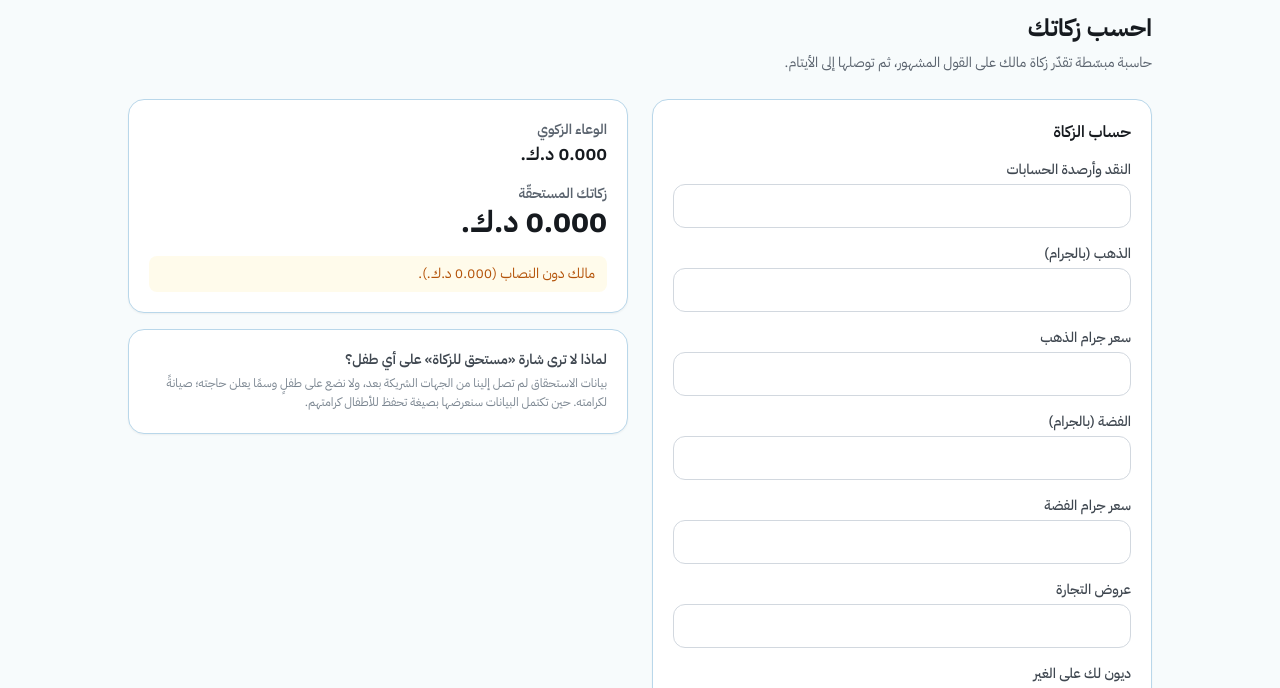
Test: DonorZakatPage — directing the zakat › keeps the pay button inert until the acknowledgement is checked
The width and height of the screenshot is (1280, 688).
Type "10000" into the field labelled "النقد وأرصدة الحسابات". click: (902, 206)
box: x1=673 y1=184 x2=1131 y2=228
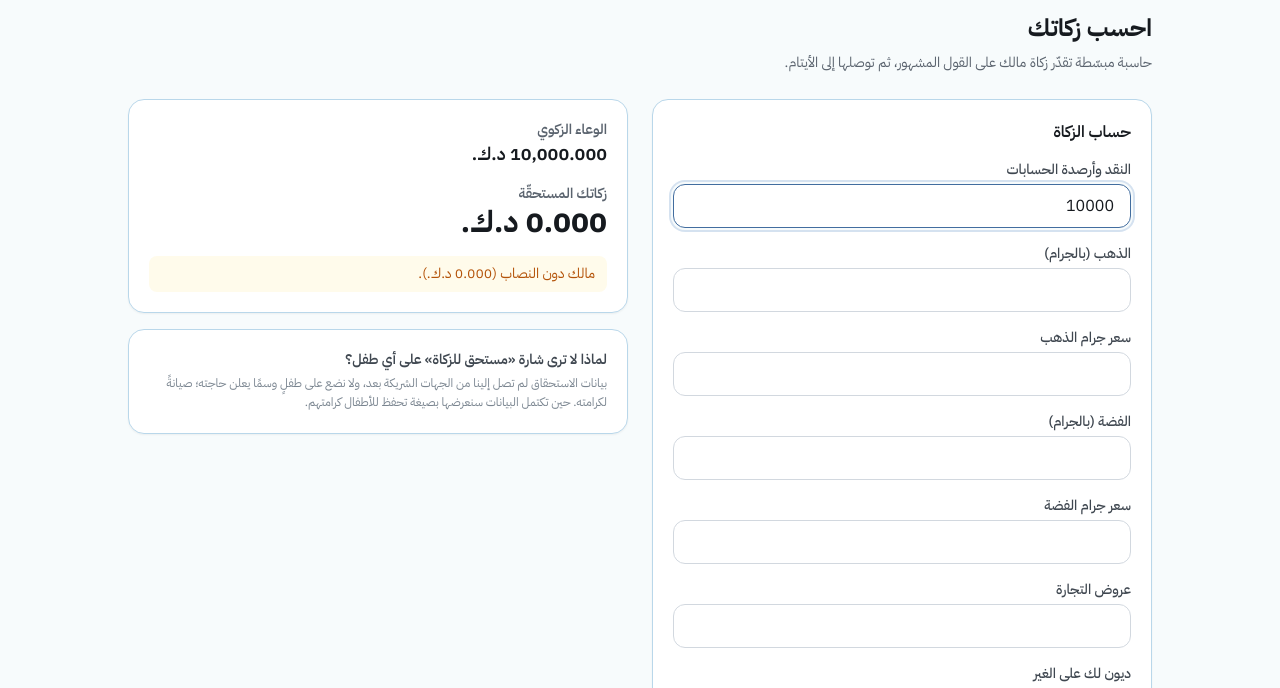
Type "80" into the field labelled "سعر جرام الذهب". click: (902, 374)
box: x1=673 y1=352 x2=1131 y2=396
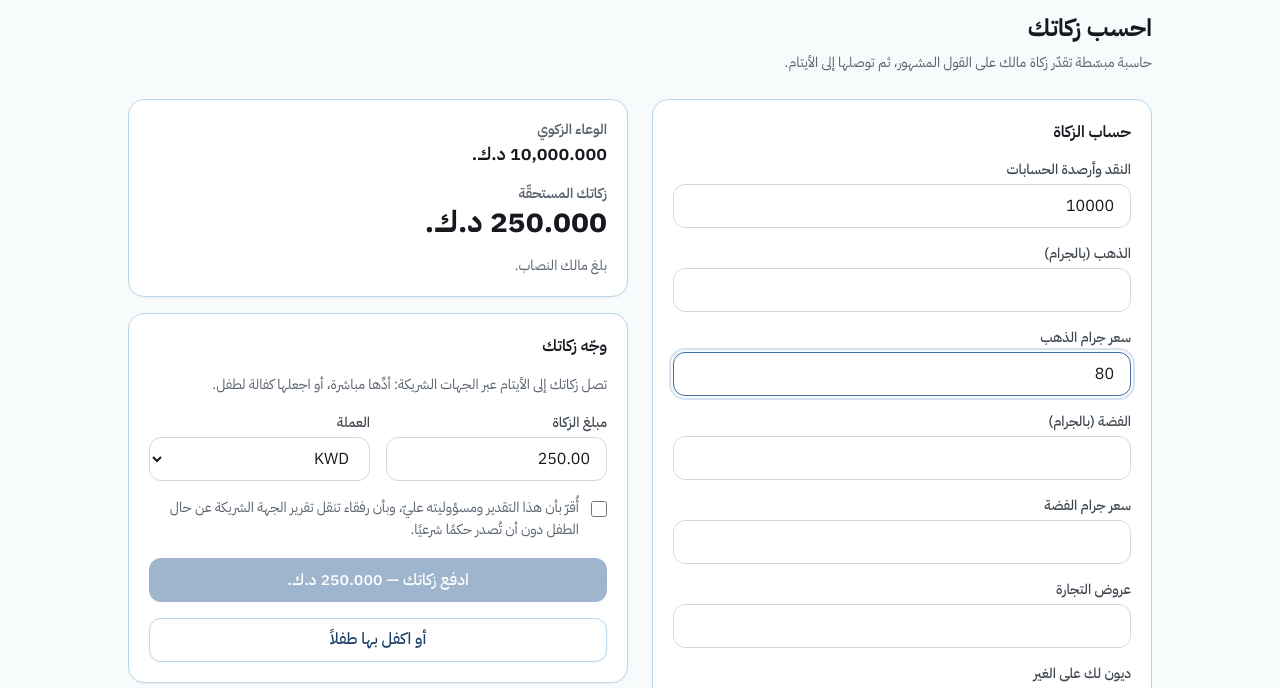
Result: the button "ادفع زكاتك — 250.000 د.ك." is disabled
Click the button "ادفع زكاتك — 250.000 د.ك.". click: (378, 580)
box: x1=149 y1=558 x2=607 y2=602
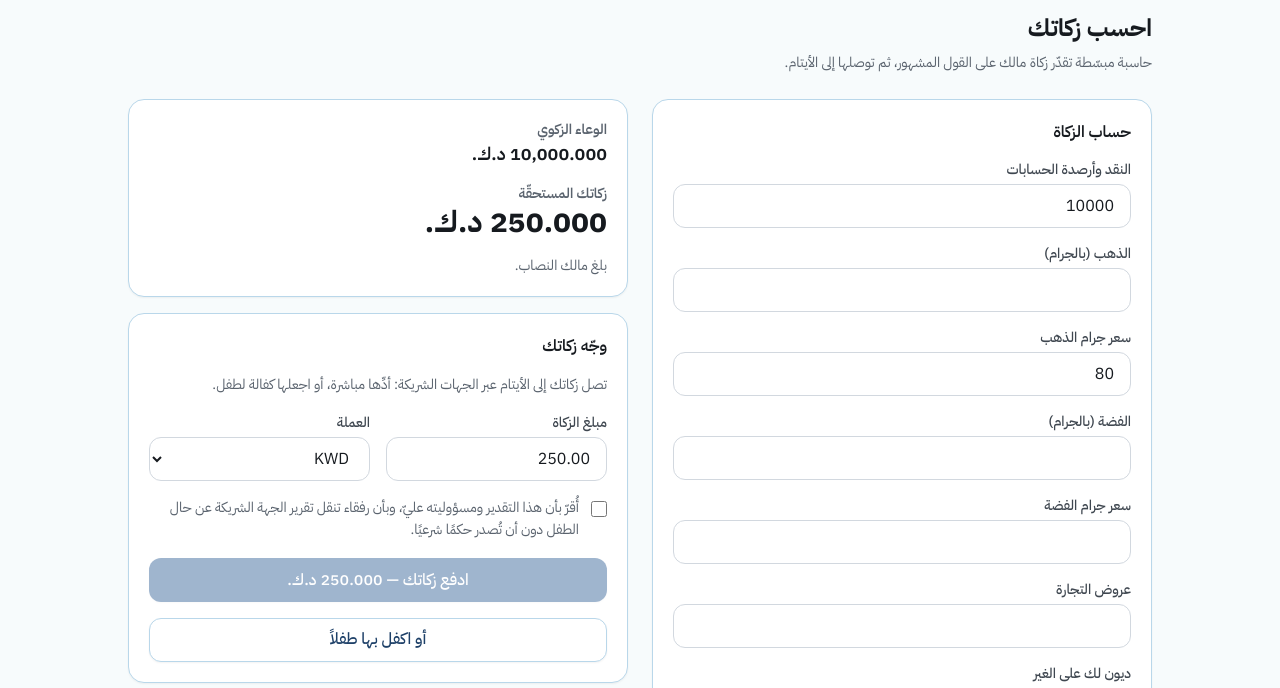
Click the checkbox. click: (599, 508)
box: x1=591 y1=500 x2=607 y2=516
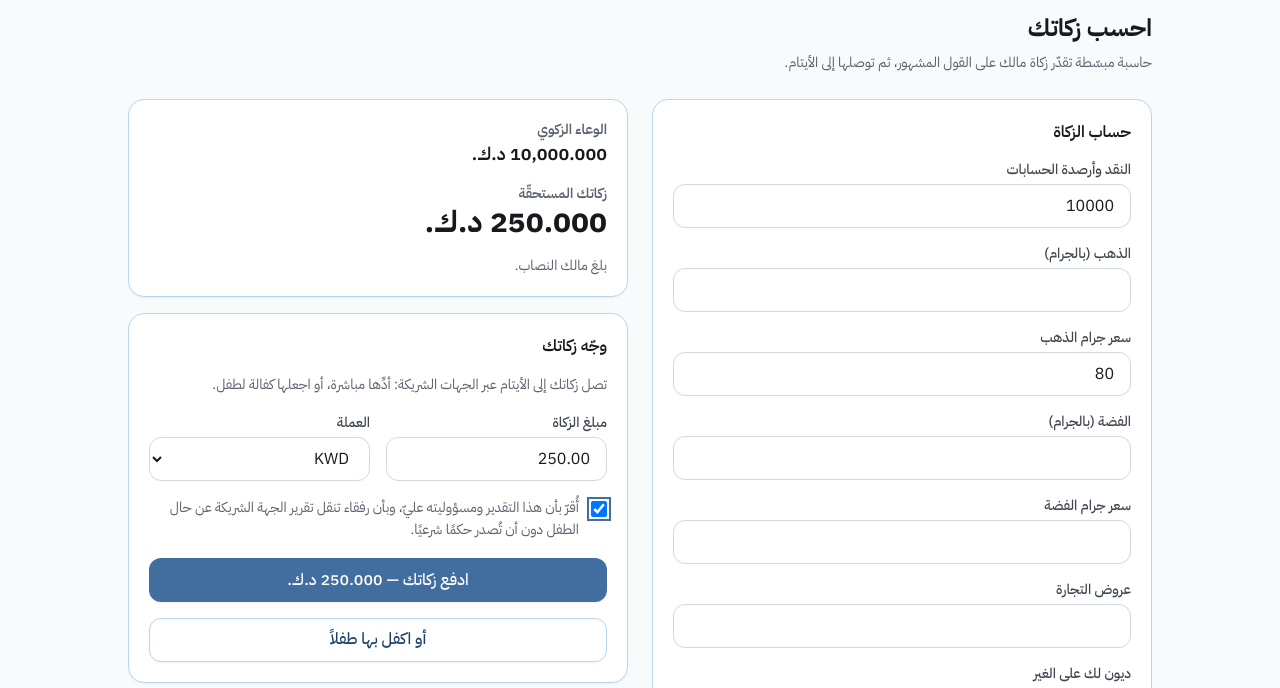
Result: the button "ادفع زكاتك — 250.000 د.ك." is enabled at x1=149 y1=558 x2=607 y2=602
